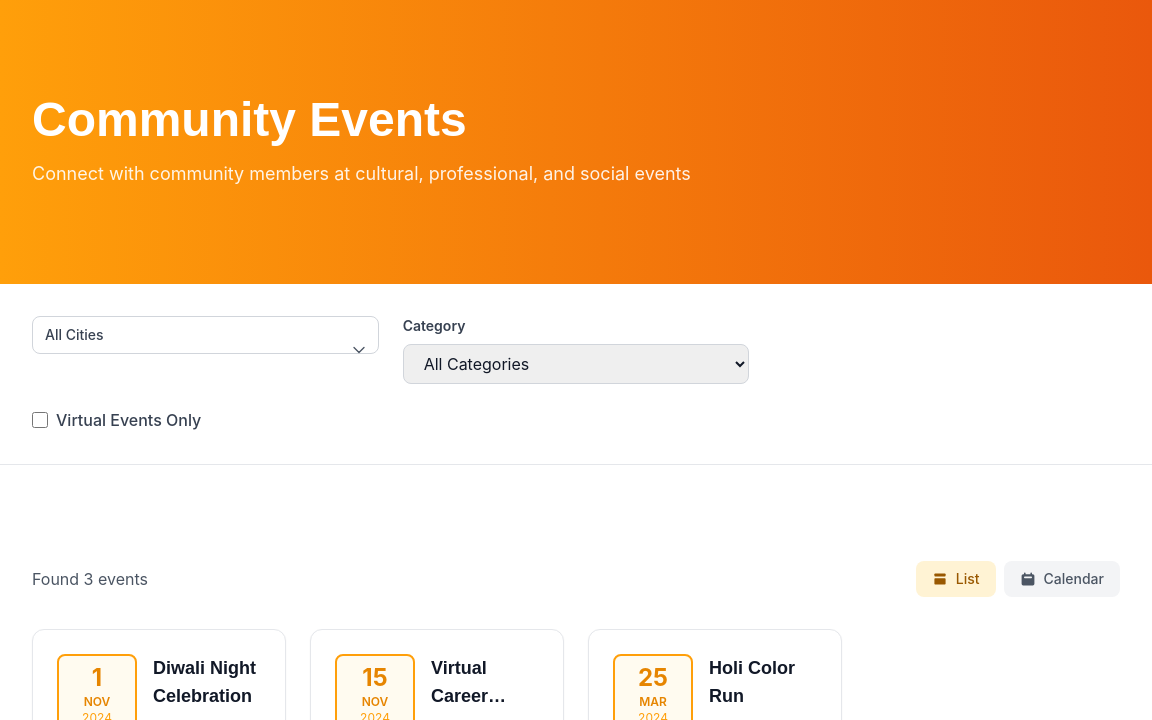
Test: EventsPage › switches to calendar view when Calendar button is clicked
Expected: the heading "Diwali Night Celebration" is shown, [153,654,261,710]
Click the button "Calendar".
click(1062, 579)  # box [1004,561,1120,597]
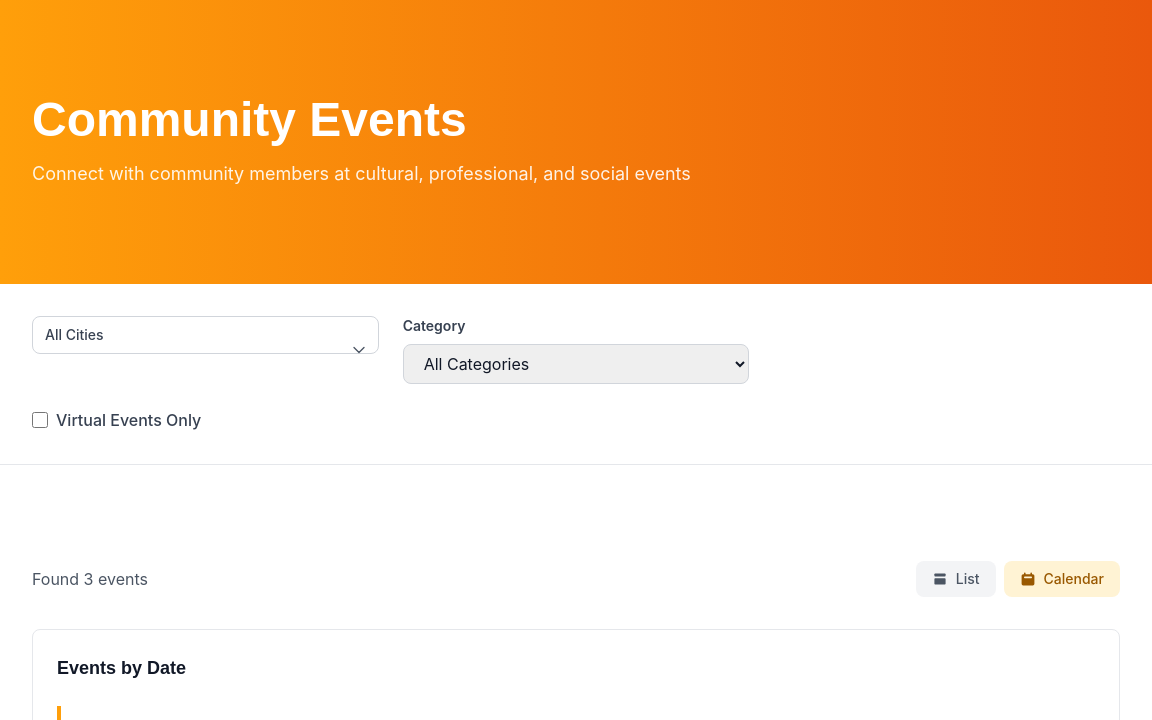
Result: the heading "Events by Date" is shown at [57,658,186,678]
